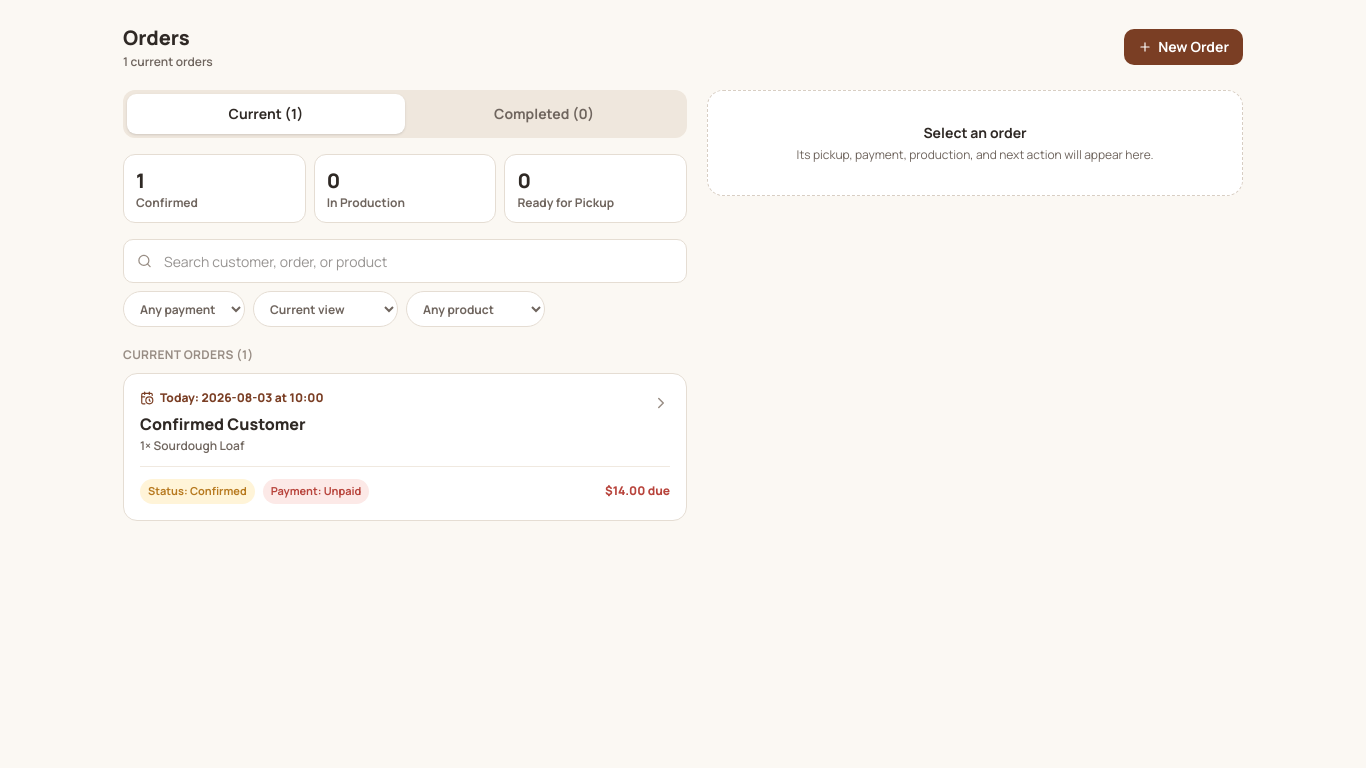
it: OrdersScreen workflow queue › waits for the authoritative parent refresh before showing the next action
Click the button with aria-label "Open order order-confirmed for Confirmed Customer".
click(242, 398)  # box [124,374,686,520]
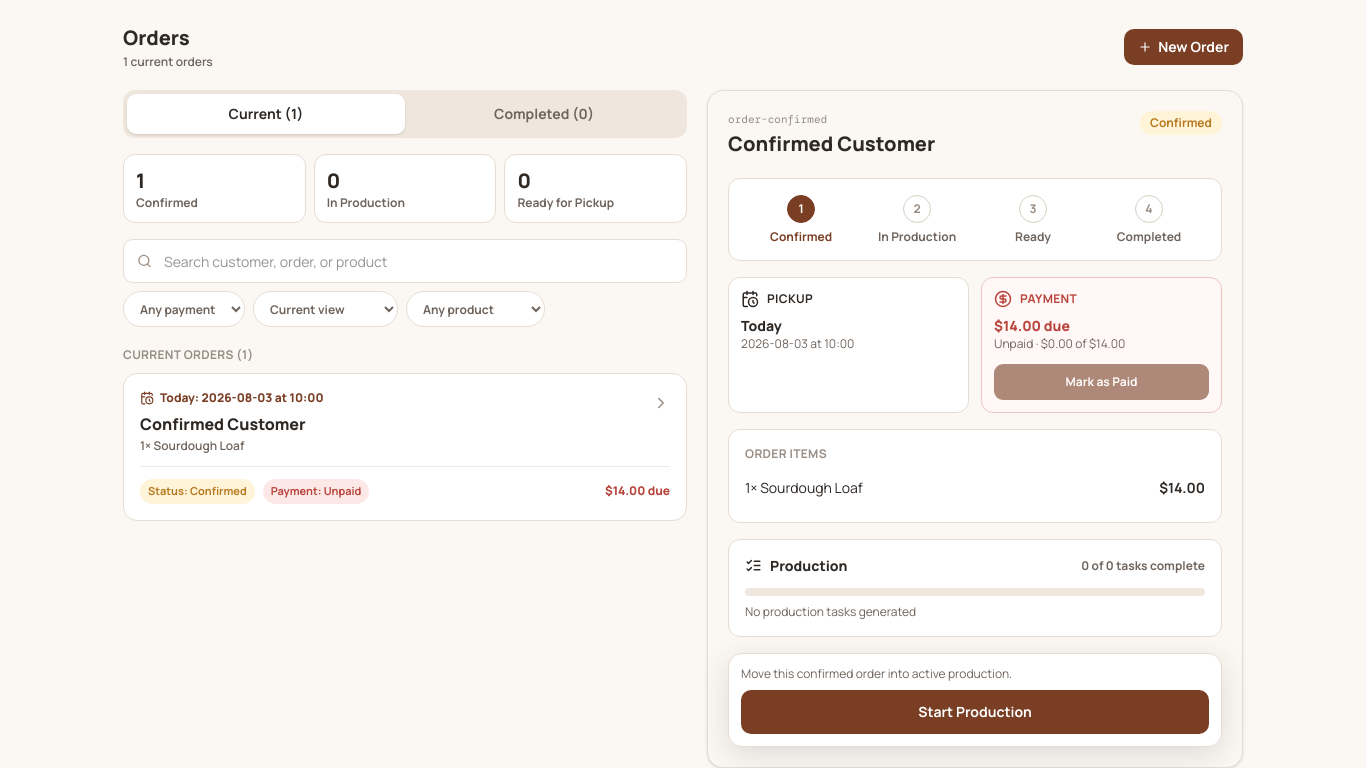
Click the button "Start Production".
click(975, 712)  # box [741,690,1209,734]
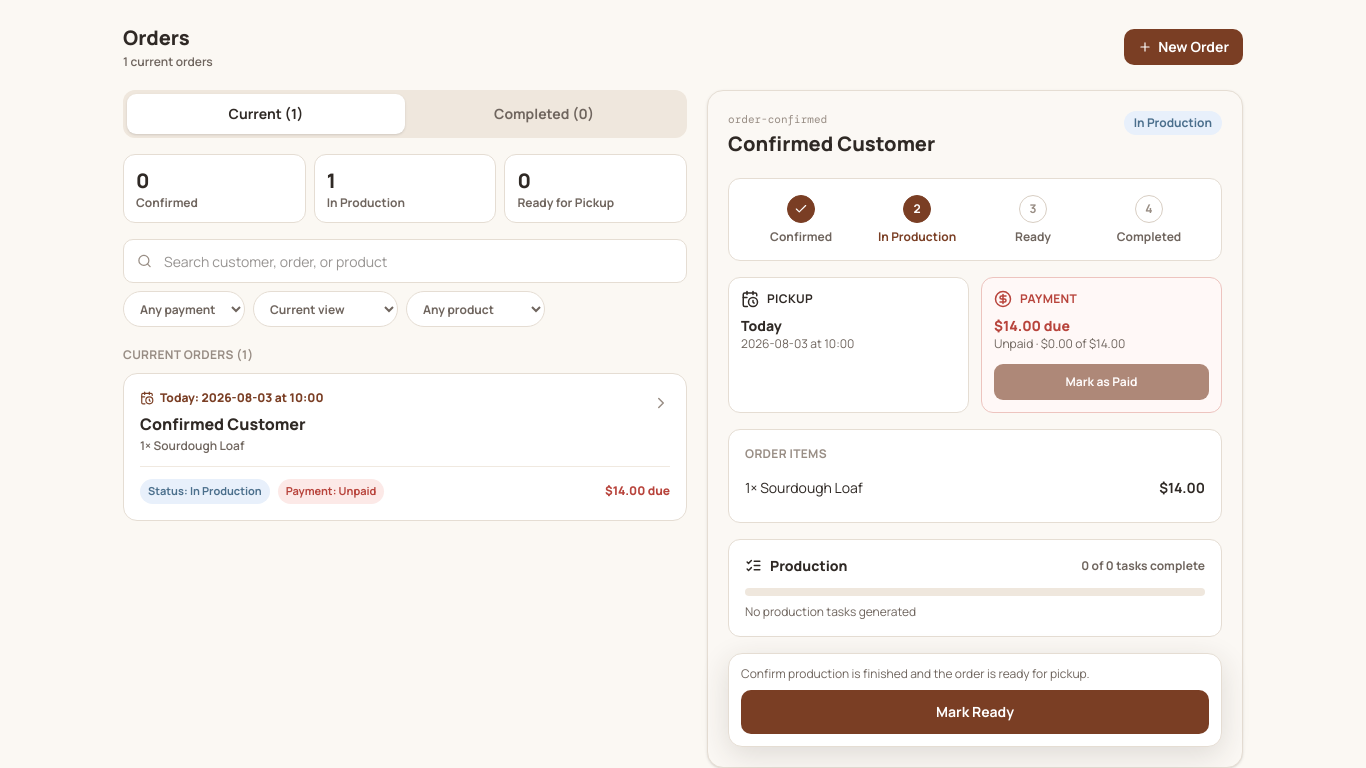
Now the button "Mark Ready" is shown, box [741,690,1209,734]
Now the list named "Current status: In Production" is shown, box [745,194,1205,244]
